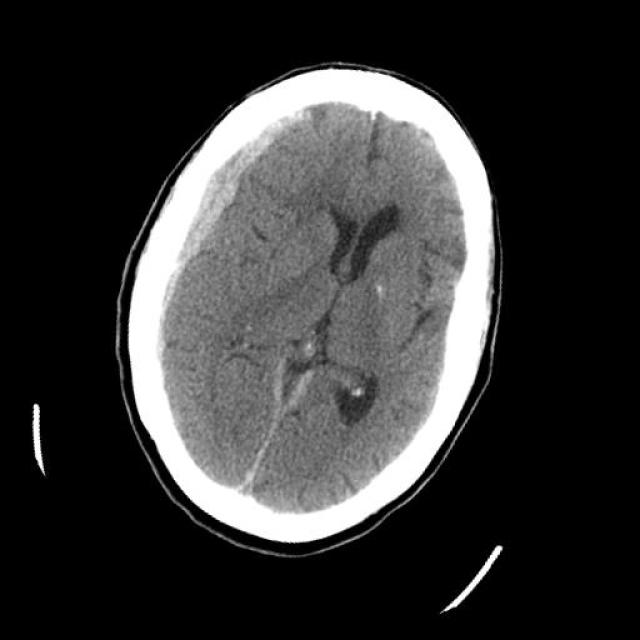Subdural: (96, 57, 328, 401)
